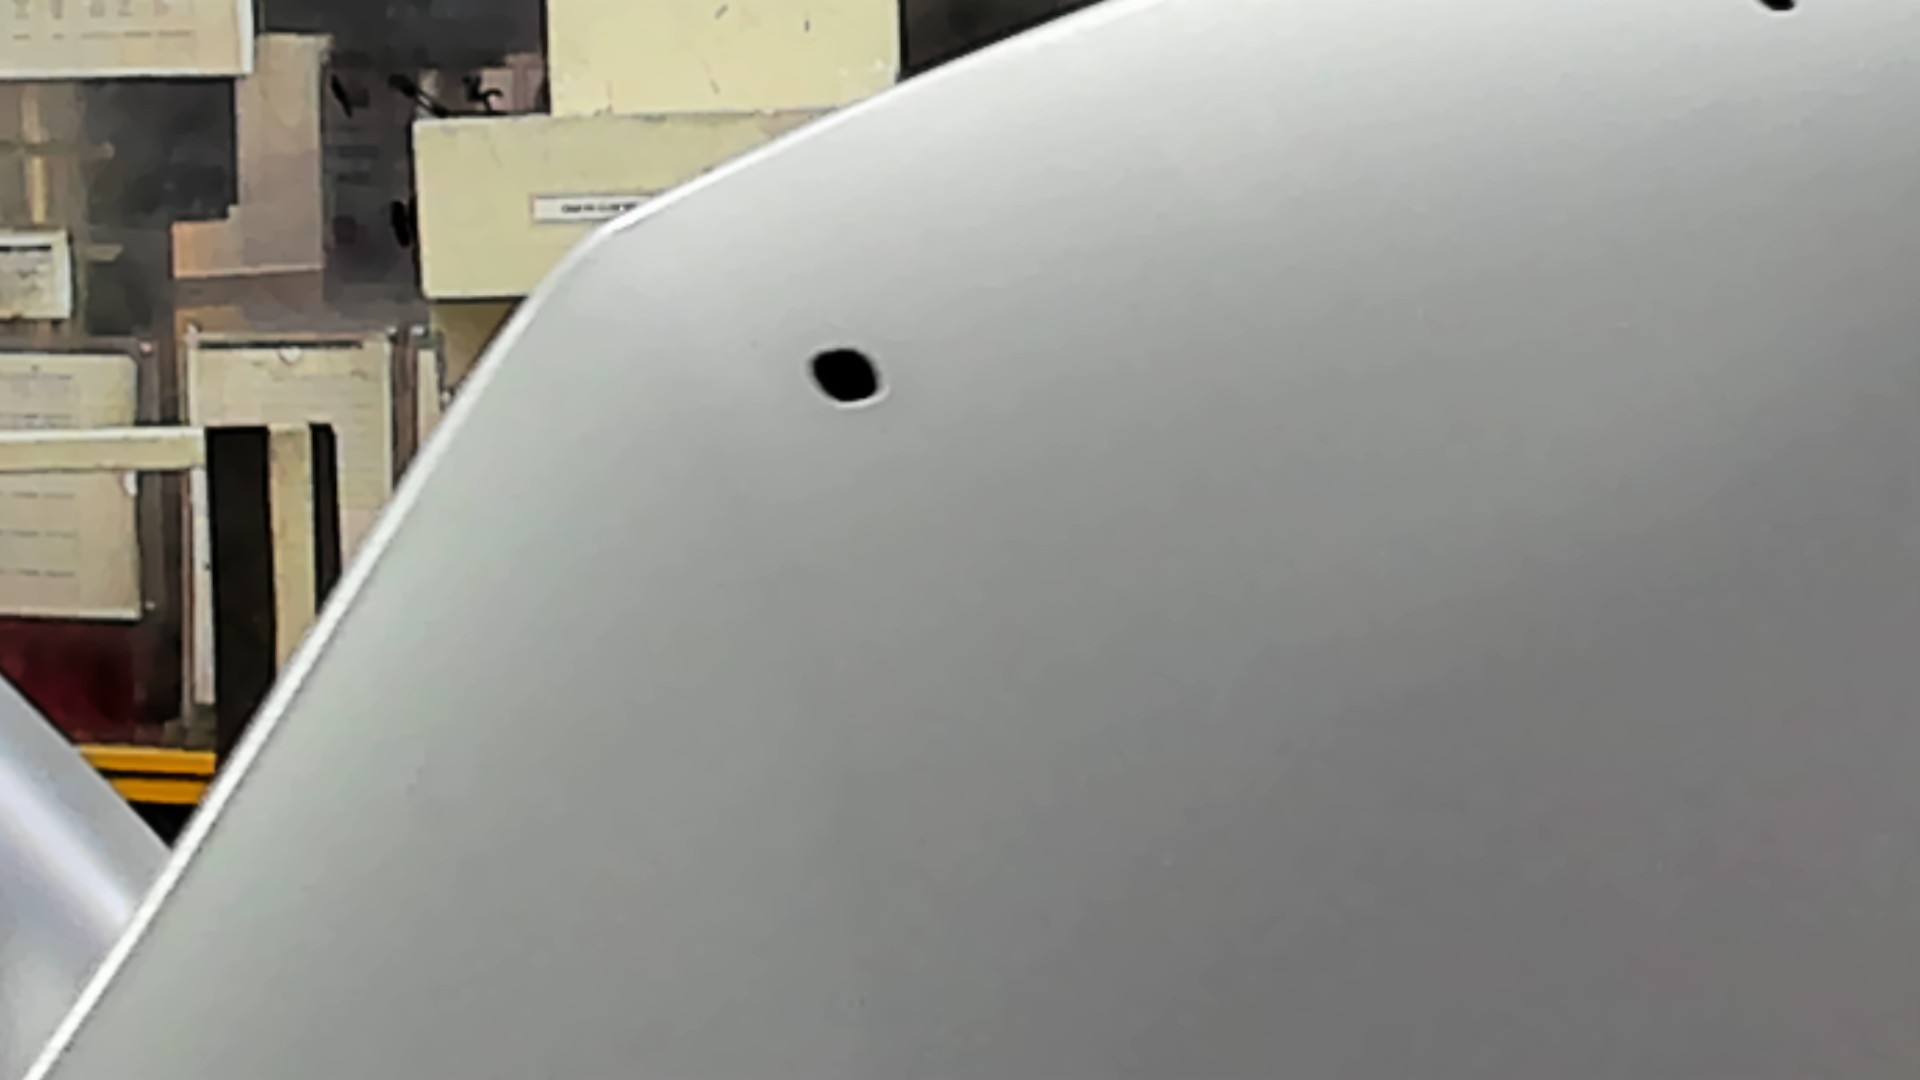amorfo: (804, 344, 884, 406), (1756, 1, 1807, 13)
